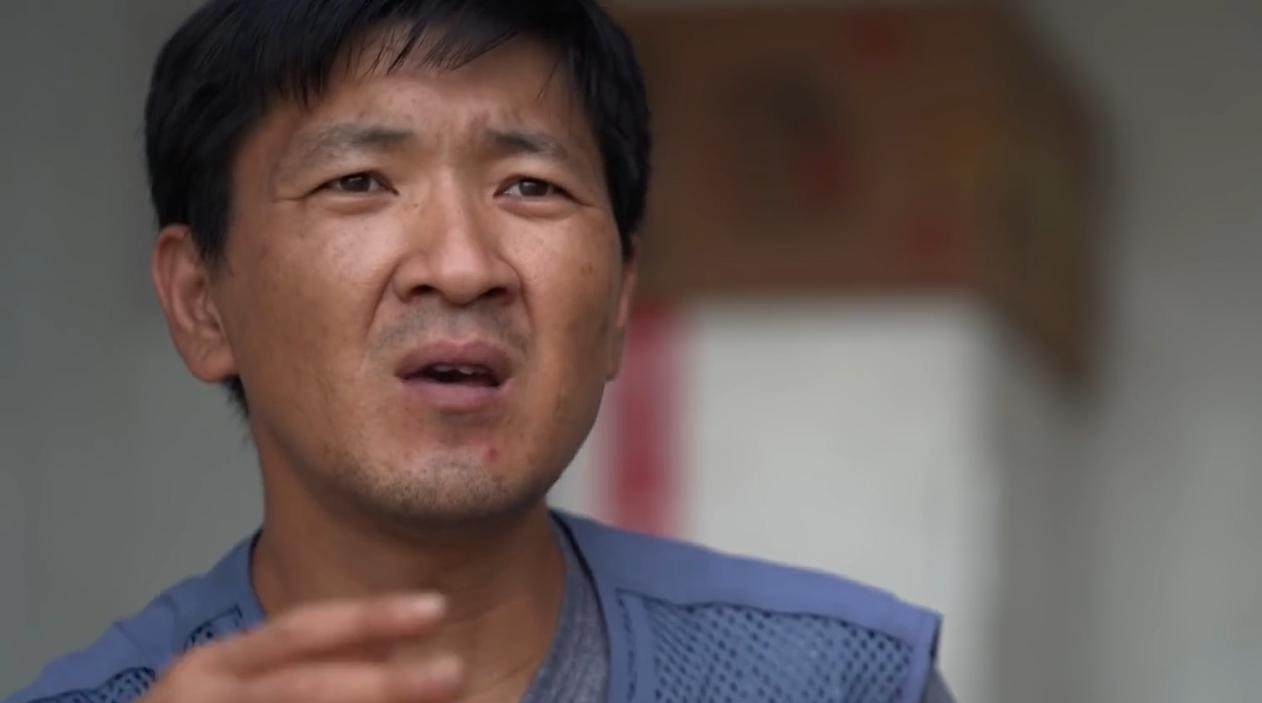without_mask: (275, 111, 579, 453)
